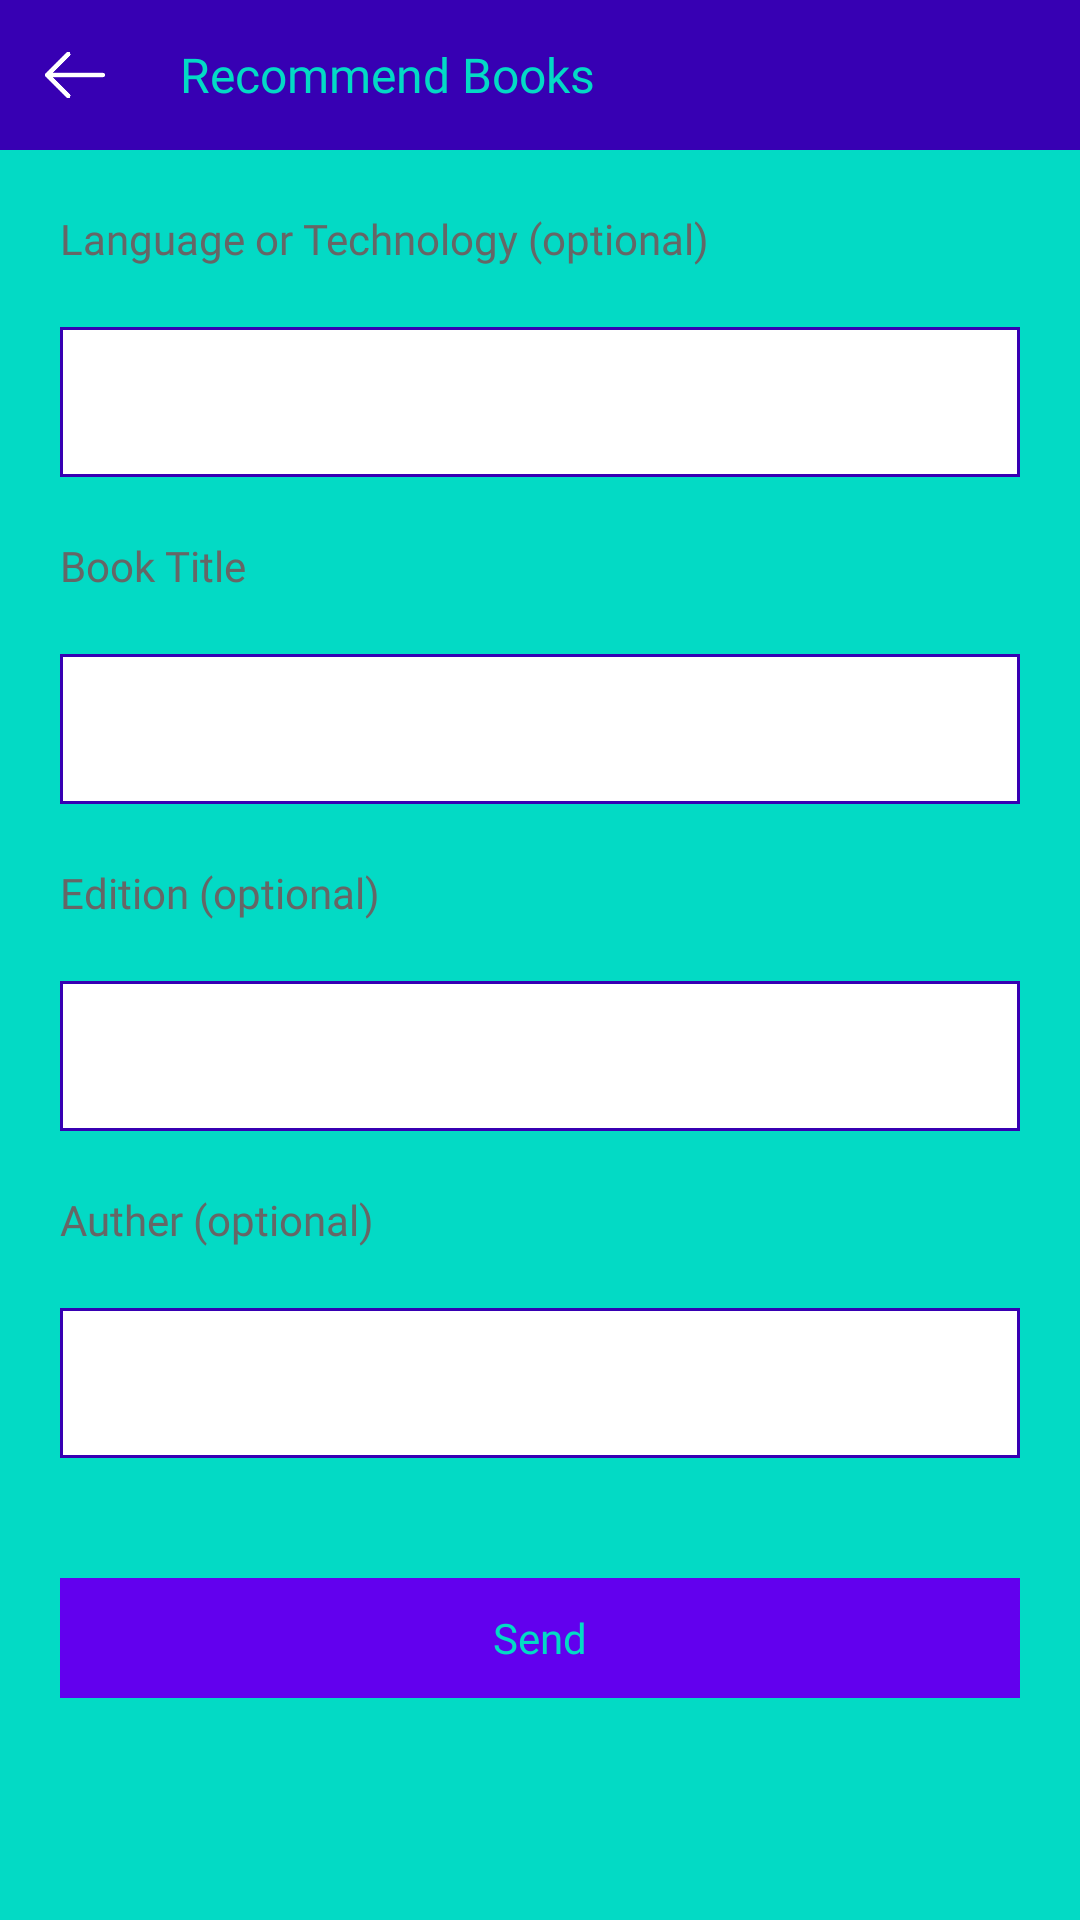

Icons on this 1080*1920 Android screen, each with its box as (x1, y1, x2, y2):
back: (45, 52, 105, 98)
